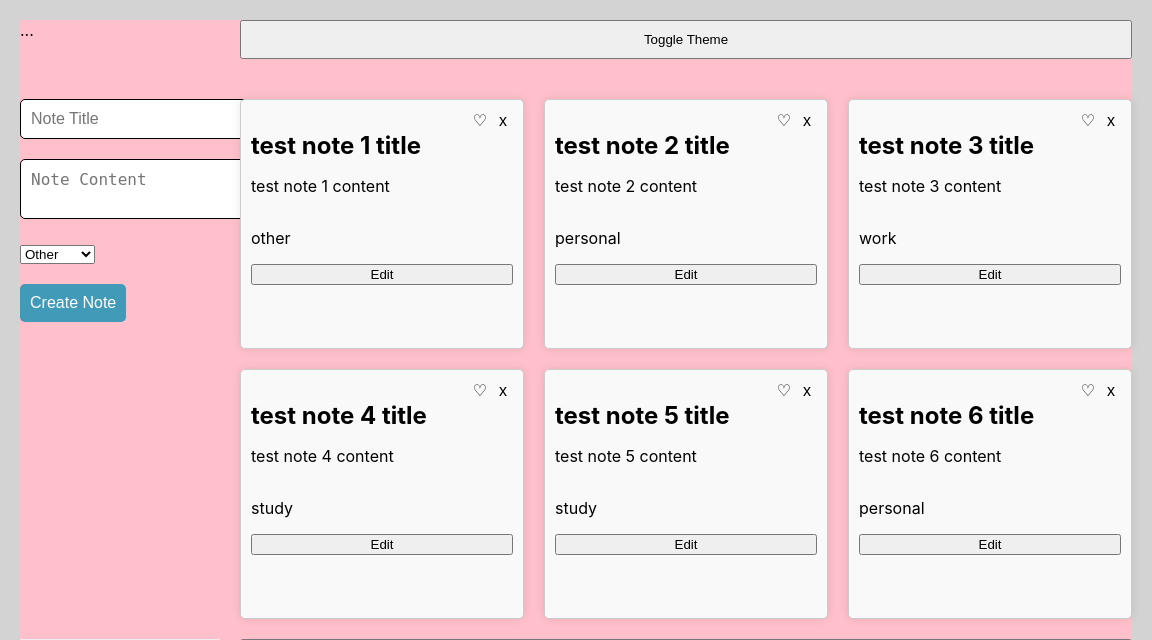
Create StickyNote › Display updated object value after updating
Click the button "Edit" below "other" at (382, 274), box [251,264,513,285]
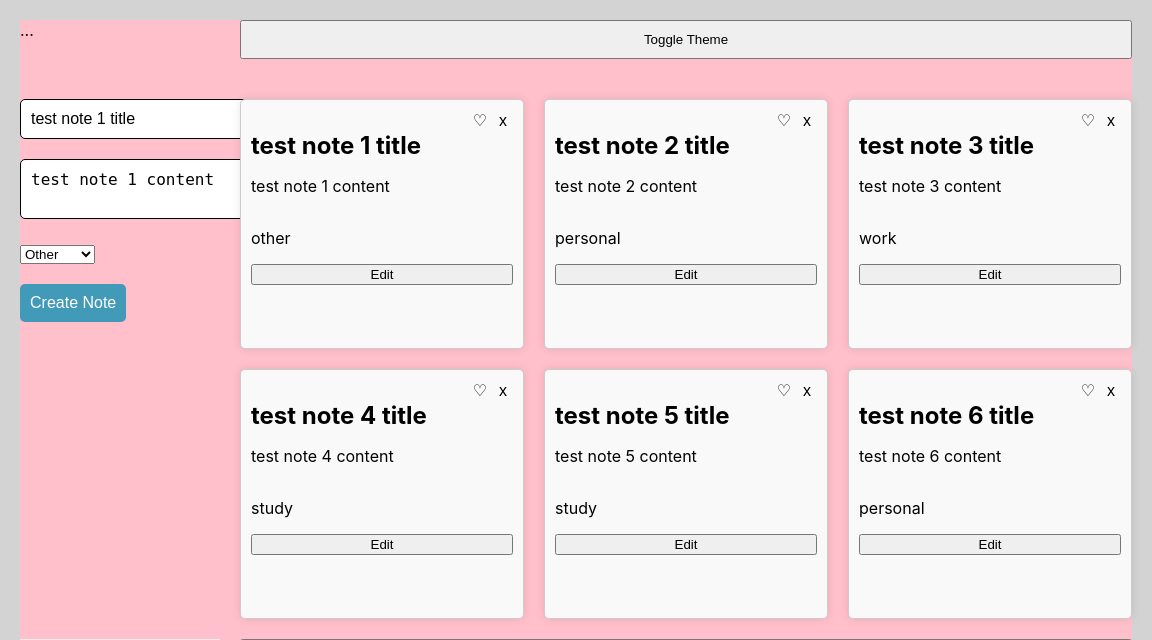
Replace the text in the field with placeholder "Note Title" with "Updated Title" at (134, 119), box [20,99,249,139]
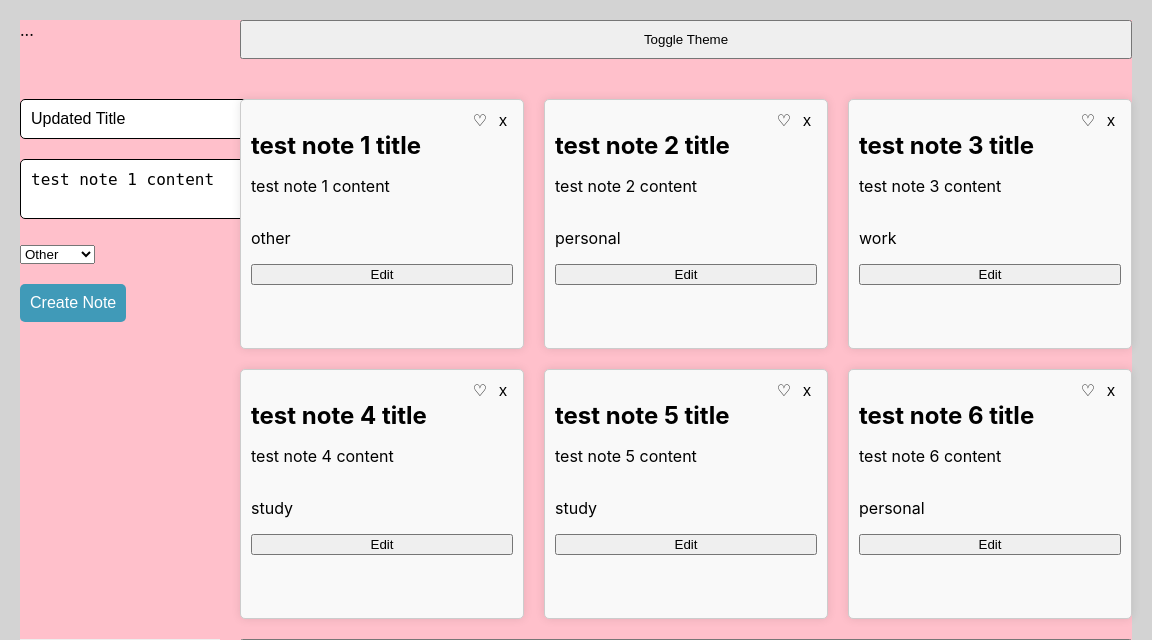
Replace the text in the text box with placeholder "Note Content" with "Updated Content" at (138, 189), box [20,159,257,219]
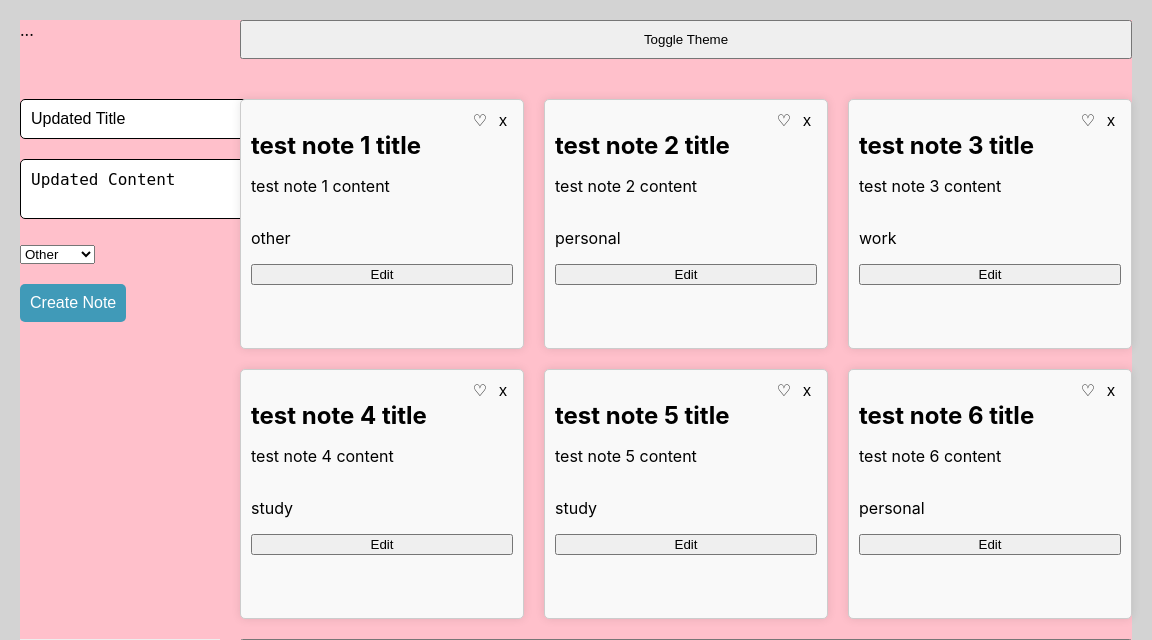
Click the button "Create Note" at (73, 303), box [20,284,126,322]
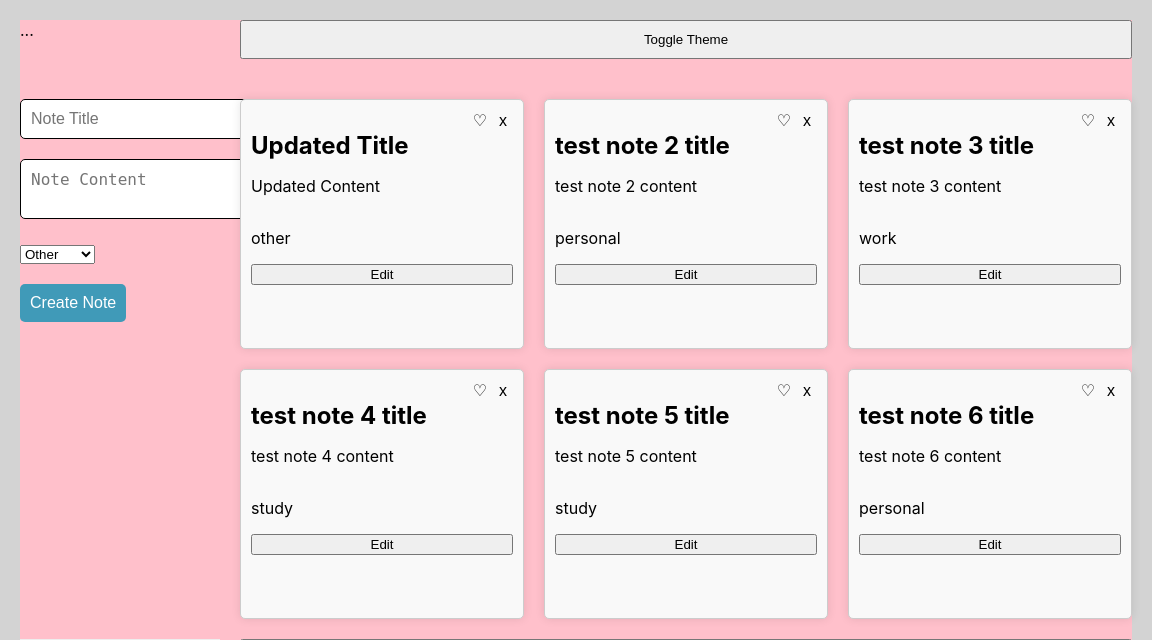
Check: the heading "Updated Title" is shown, box [251,131,409,160]
Check: the text "Updated Content" is shown, box [251,176,380,196]
